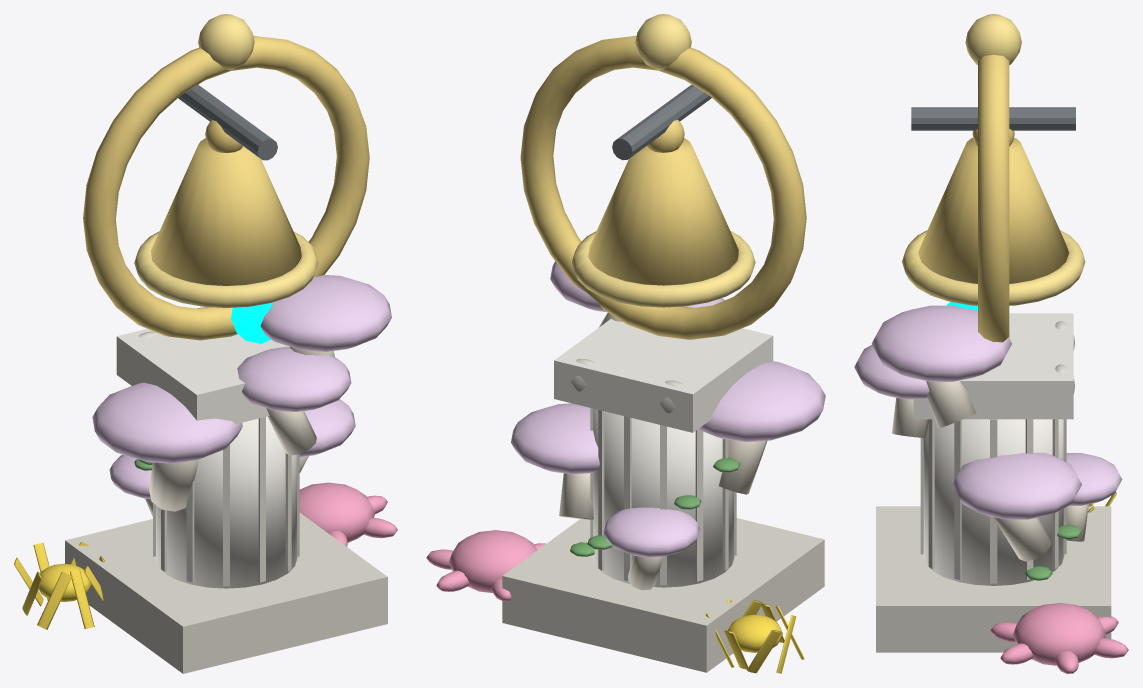
The model's file is tower_mycelium_bell.glb.
3 renders of one model, left to right at view 1: azimuth 30°, elevation 25°; view 2: azimuth 150°, elevation 25°; view 3: azimuth 270°, elevation 25°, orthographic.
Parts seen in each view (by area): view 1: Cube, Torus, Cone, Cylinder, Cube.013, Sphere.006, Sphere.009, Sphere.007, Torus.001, Sphere.010, Cylinder.001, Sphere.002 (+13 smaller); view 2: Cube, Torus, Cube.013, Cone, Cylinder, Sphere.006, Torus.001, Sphere.005, Sphere.008, Sphere.010, Cylinder.001, Sphere.002 (+11 smaller); view 3: Cube, Cylinder, Cone, Cube.013, Torus, Sphere.009, Sphere.005, Torus.001, Sphere.010, Cylinder.001, Sphere.002, Sphere.007 (+13 smaller).
Part boxes in pixels (box(x1,y1,x2,y2)): Cube: box(65, 512, 387, 673); Torus: box(83, 35, 369, 340); Cone: box(151, 138, 301, 285); Cylinder: box(155, 416, 297, 588); Cube.013: box(116, 329, 289, 424); Sphere.006: box(92, 382, 242, 463); Sphere.009: box(260, 274, 391, 351); Sphere.007: box(237, 346, 351, 411); Torus.001: box(134, 231, 318, 307); Sphere.010: box(299, 482, 374, 542); Cylinder.001: box(178, 84, 277, 160); Sphere.002: box(198, 14, 254, 69); Cube: box(502, 518, 824, 672); Torus: box(520, 35, 806, 339); Cube.013: box(554, 319, 773, 432); Cone: box(588, 138, 738, 285); Cylinder: box(592, 408, 734, 587); Sphere.006: box(699, 361, 825, 441); Torus.001: box(571, 231, 755, 307); Sphere.005: box(511, 403, 599, 474); Sphere.008: box(603, 507, 699, 557); Sphere.010: box(449, 530, 537, 592); Cylinder.001: box(612, 84, 711, 160); Sphere.002: box(635, 14, 691, 69); Cube: box(876, 506, 1111, 652); Cylinder: box(923, 419, 1064, 585); Cone: box(918, 137, 1068, 283); Cube.013: box(913, 313, 1073, 419); Torus: box(978, 54, 1009, 342); Sphere.009: box(871, 305, 1011, 381); Sphere.005: box(952, 452, 1081, 519); Torus.001: box(902, 230, 1085, 305); Sphere.010: box(1013, 603, 1105, 665); Cylinder.001: box(911, 107, 1075, 130); Sphere.002: box(965, 14, 1021, 64); Sphere.007: box(854, 345, 929, 399).
Bounding box in the file's own units: 1.78 × 2.76 × 1.17.
